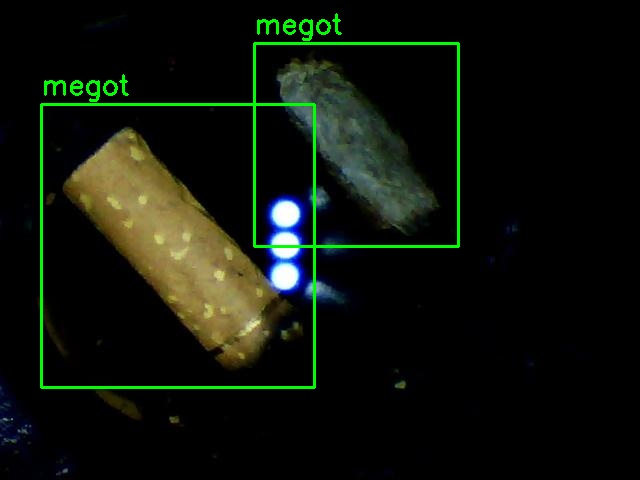megot: (41, 104, 314, 387), (254, 43, 458, 246)
